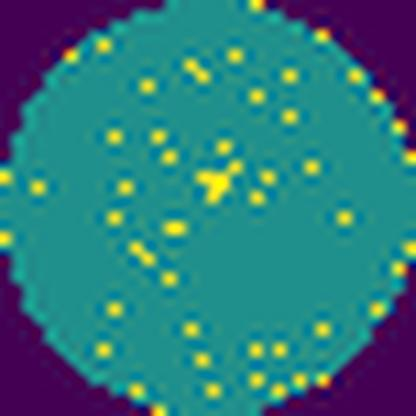Center: (194, 156, 252, 197)
